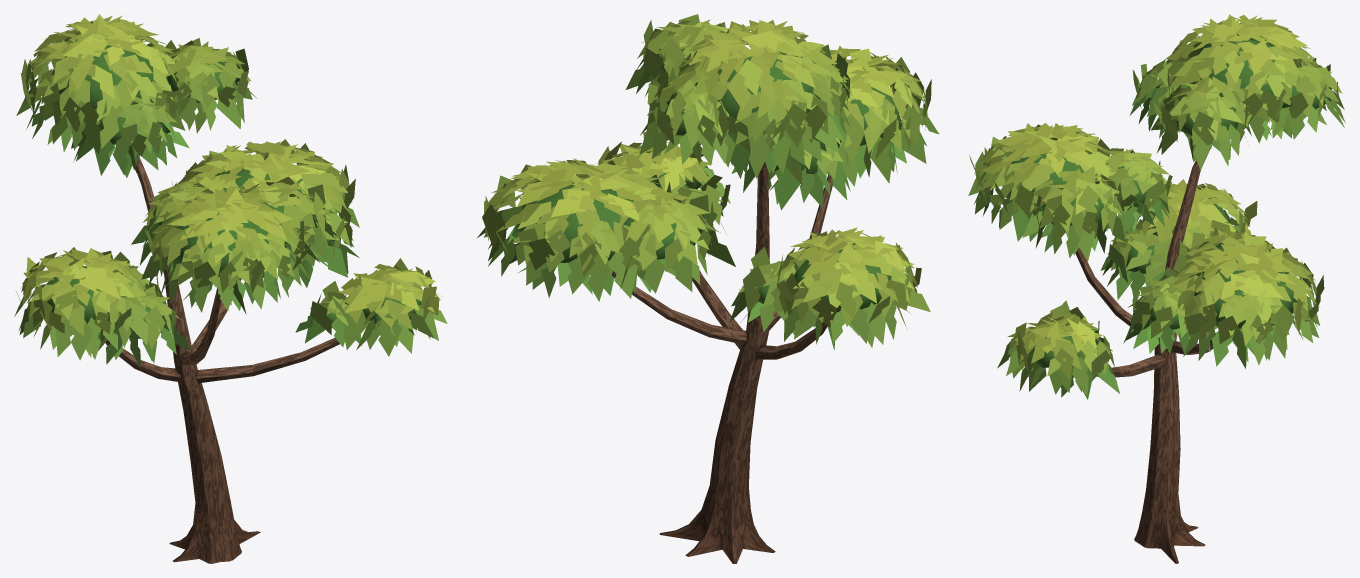
File: tree_old_1.glb
3 renders of one model, left to right at view 1: azimuth 30°, elevation 25°; view 2: azimuth 150°, elevation 25°; view 3: azimuth 270°, elevation 25°, orthographic. The views are drawn at different scales.
Visible parts, largest first — view 1: tree_old_1; view 2: tree_old_1; view 3: tree_old_1.
Boxes of the visible parts, bbox=[...] form: tree_old_1: bbox=[14, 14, 447, 563]; tree_old_1: bbox=[477, 14, 939, 563]; tree_old_1: bbox=[968, 14, 1345, 563].
Bounding box in the file's own units: 6.4 × 8.8 × 6.2.
Materials: 2 (2 with a texture image).
